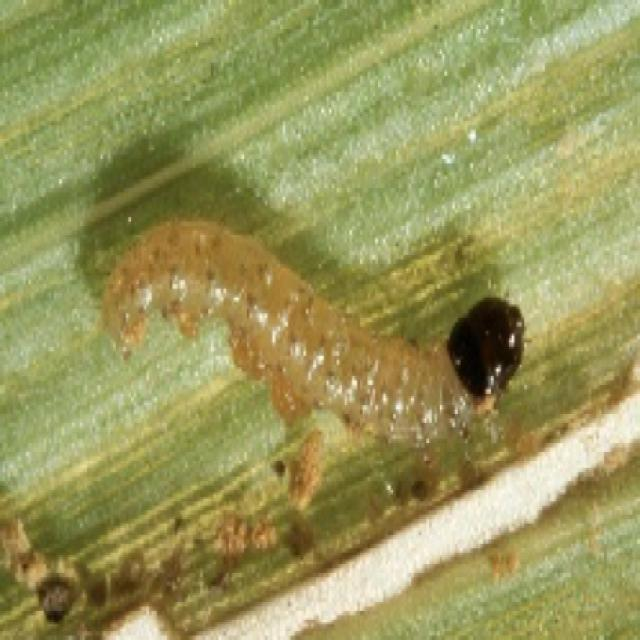cornborer-Larva-: (96, 203, 523, 471)
